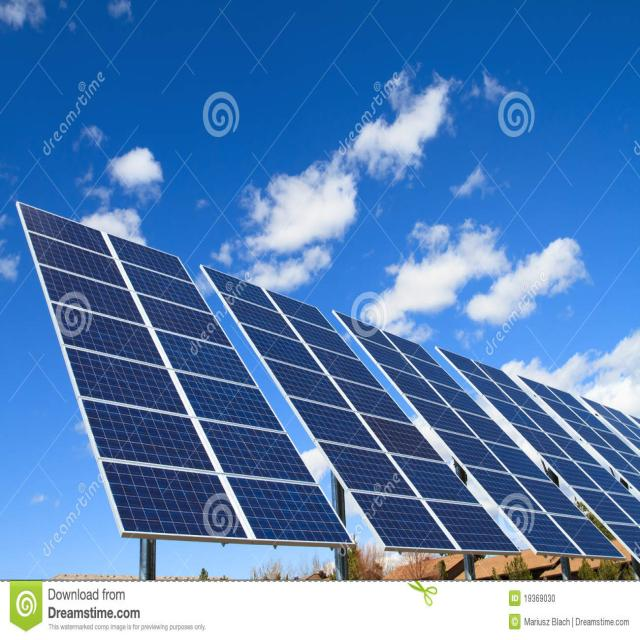clean-solar-panel: (19, 205, 316, 542), (205, 268, 500, 550), (336, 312, 621, 557), (439, 350, 640, 559)
